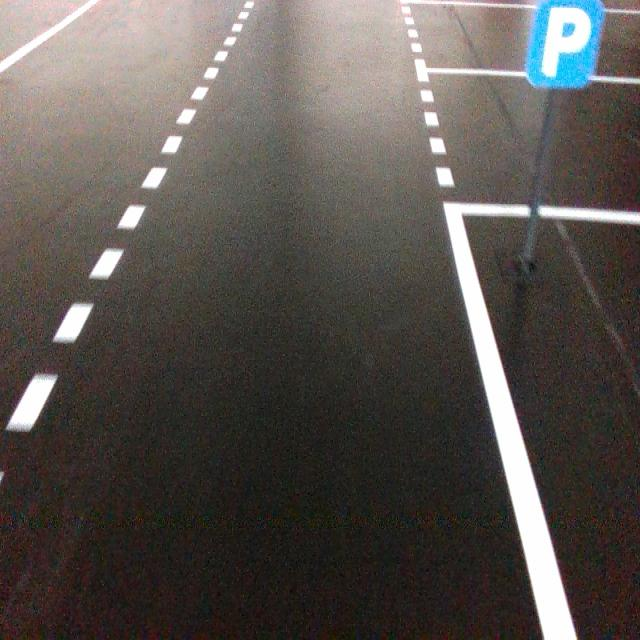parking-sign: (526, 0, 604, 89)
